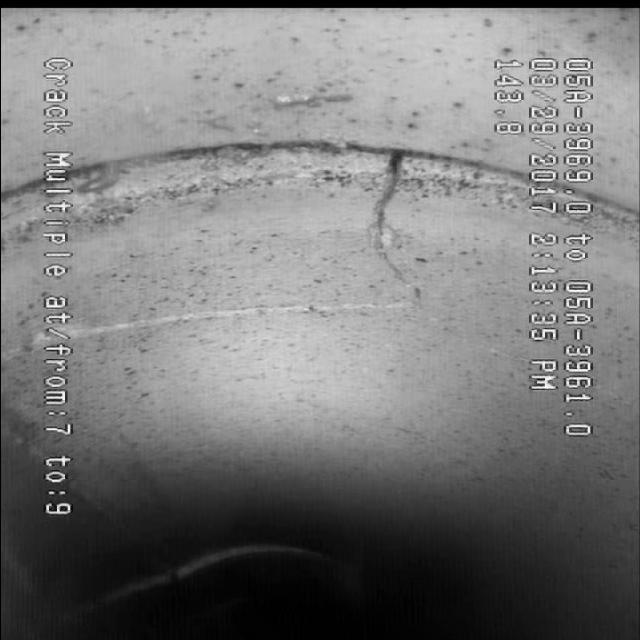Crack: (138, 158, 470, 366)
